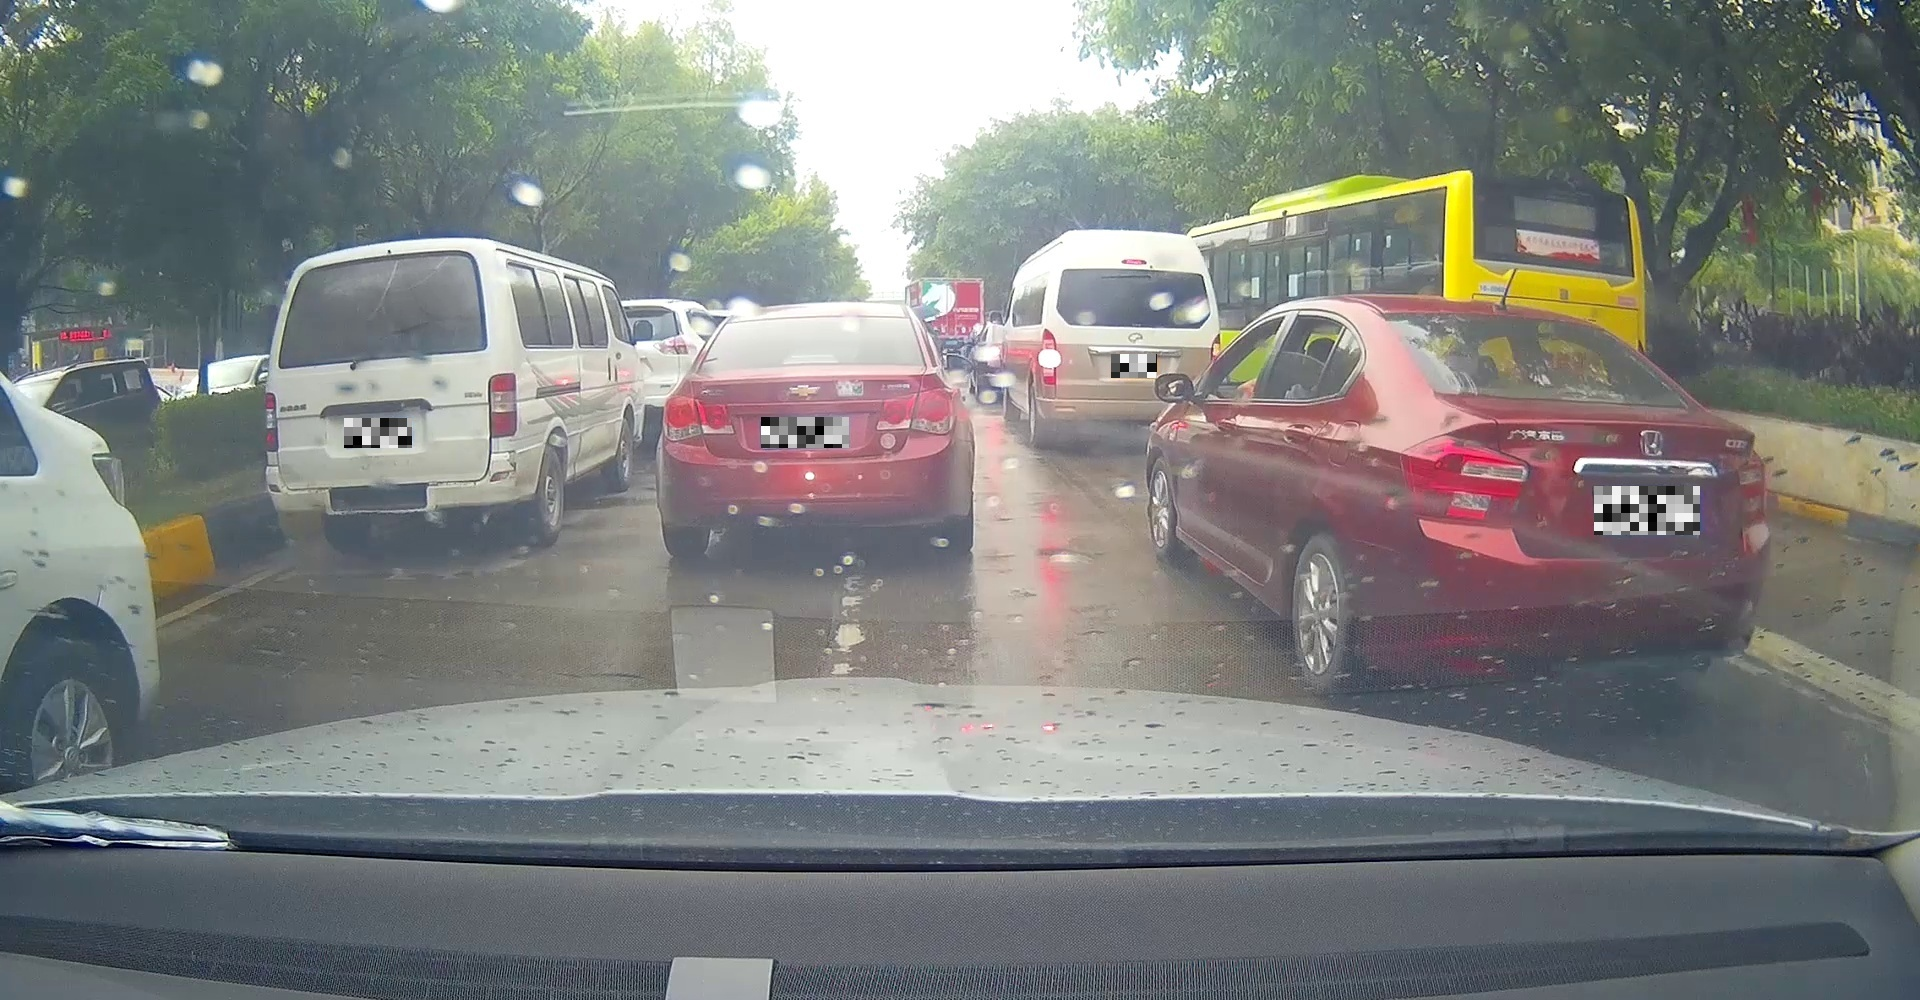L_light: (1398, 434, 1529, 523), (663, 395, 734, 443), (263, 392, 279, 452), (1041, 329, 1057, 385)
R_light: (875, 387, 957, 434), (1736, 451, 1766, 522), (488, 373, 518, 439), (1210, 332, 1220, 376)
T_light: (1476, 312, 1535, 325), (781, 354, 841, 365), (356, 258, 399, 270), (1121, 258, 1148, 266)
day-brake: (1036, 230, 1223, 447)
day-no: (1364, 296, 1771, 703), (260, 237, 526, 552), (657, 302, 974, 561)
plate_1: (344, 418, 411, 448)
plate_2: (761, 418, 850, 448)
plate_3: (1111, 354, 1157, 378)
plate_4: (1594, 486, 1700, 536)
